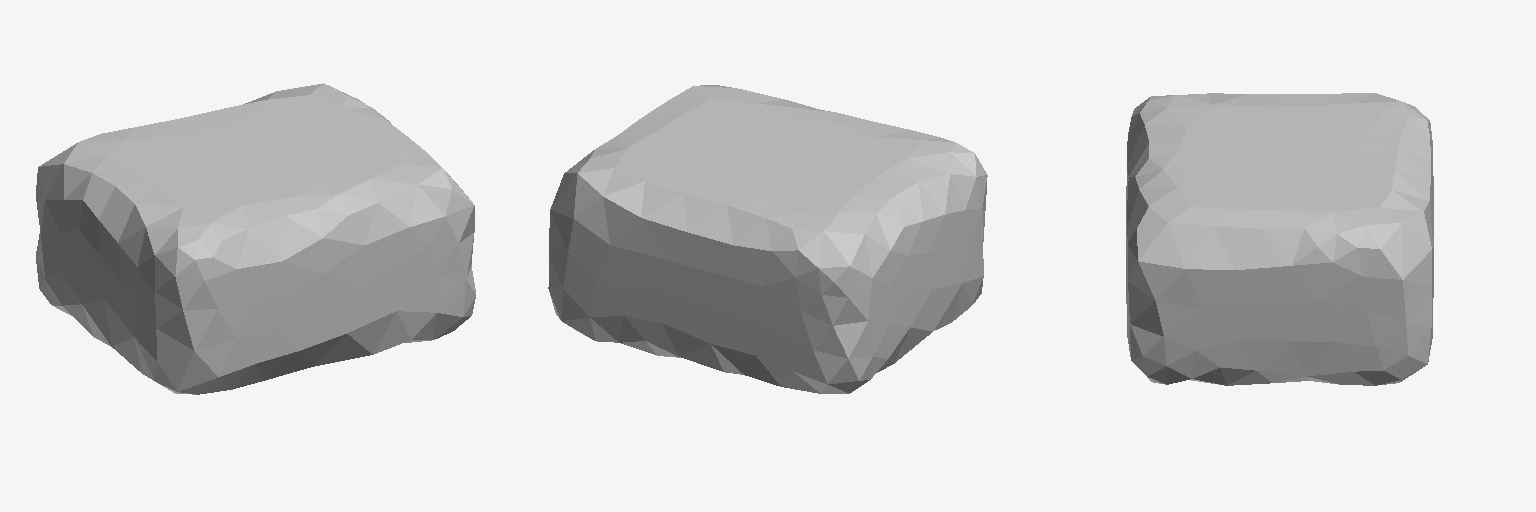
Rendered from bag_thin_handle_sparse.obj.
3 views of the same model, side by side, from view 1: azimuth 30°, elevation 25°; view 2: azimuth 150°, elevation 25°; view 3: azimuth 270°, elevation 25° (orthographic).
Visible parts, largest first — view 1: mmGroup0; view 2: mmGroup0; view 3: mmGroup0.
Part boxes in pixels (x1,y1,x2,y2): mmGroup0: (36,83,475,394); mmGroup0: (548,85,987,393); mmGroup0: (1126,93,1433,385).
Size of the model in its own units: 0.5 by 0.3 by 0.42.